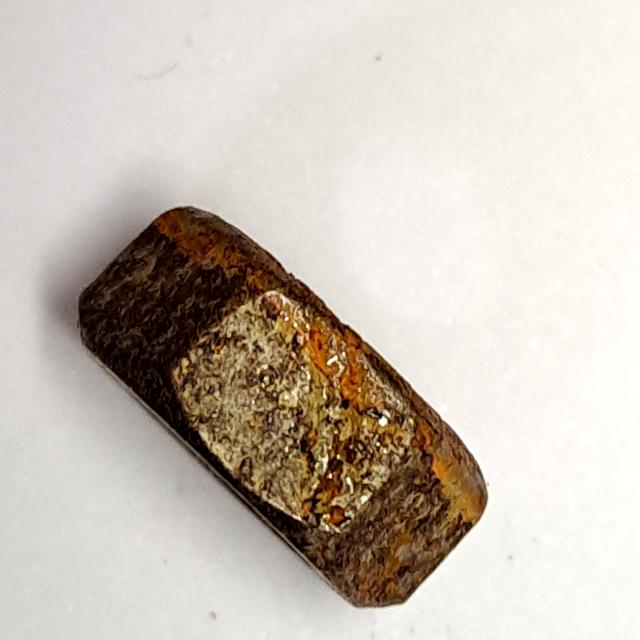Side_Rust: (60, 200, 515, 625)
